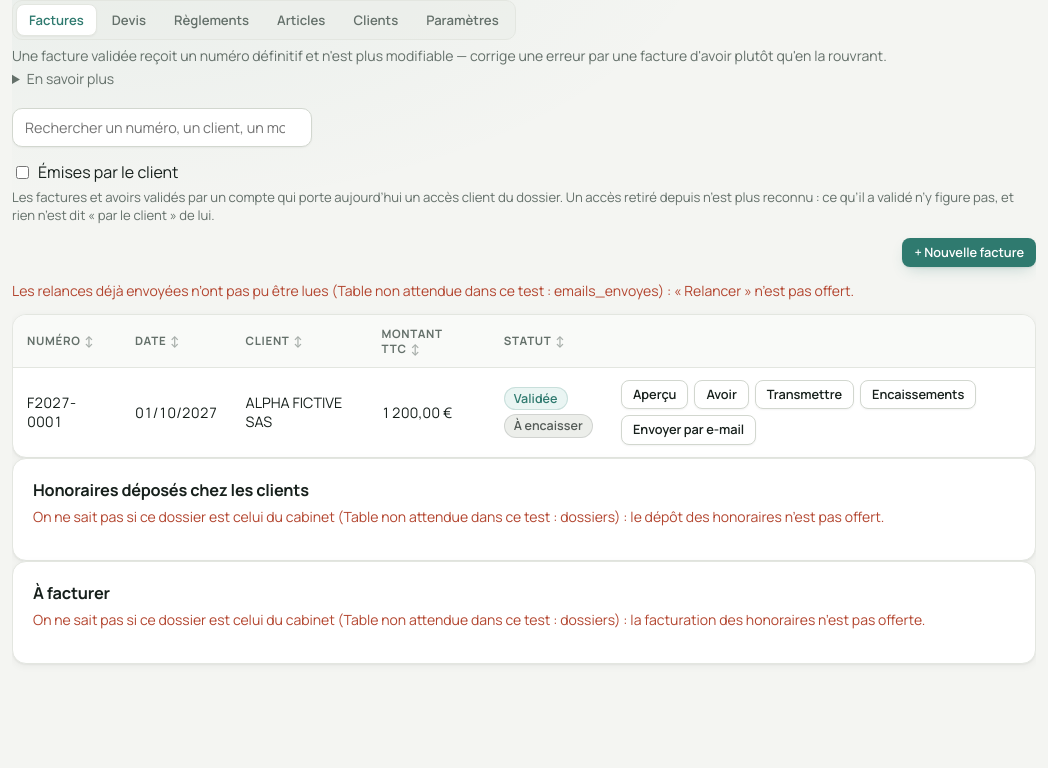
Test: Clients dans l’onglet Factures — cabinet › un dossier hors des soins ne dit rien de la règle
The width and height of the screenshot is (1048, 768).
Expected: the text "F2027-0001" is shown, x1=27 y1=393 x2=76 y2=431
Click the tab "Clients": coordinates (376, 20) x1=340 y1=4 x2=411 y2=36
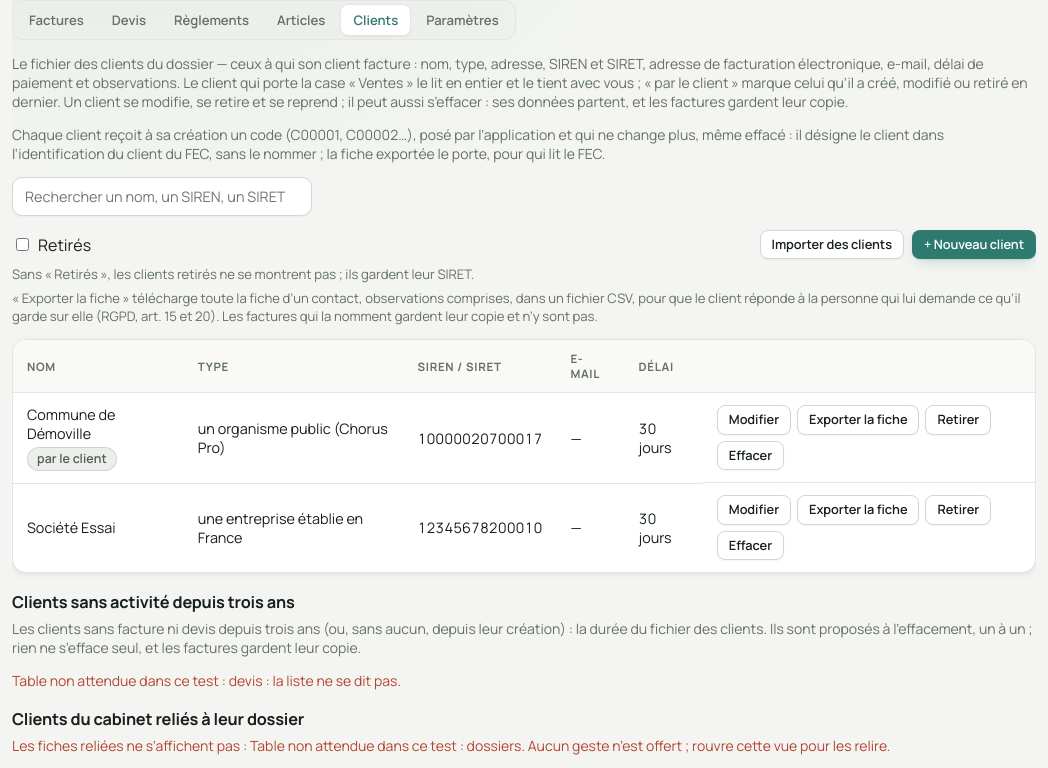
Expected: the table named "Clients" is shown, x1=13 y1=340 x2=1035 y2=572
